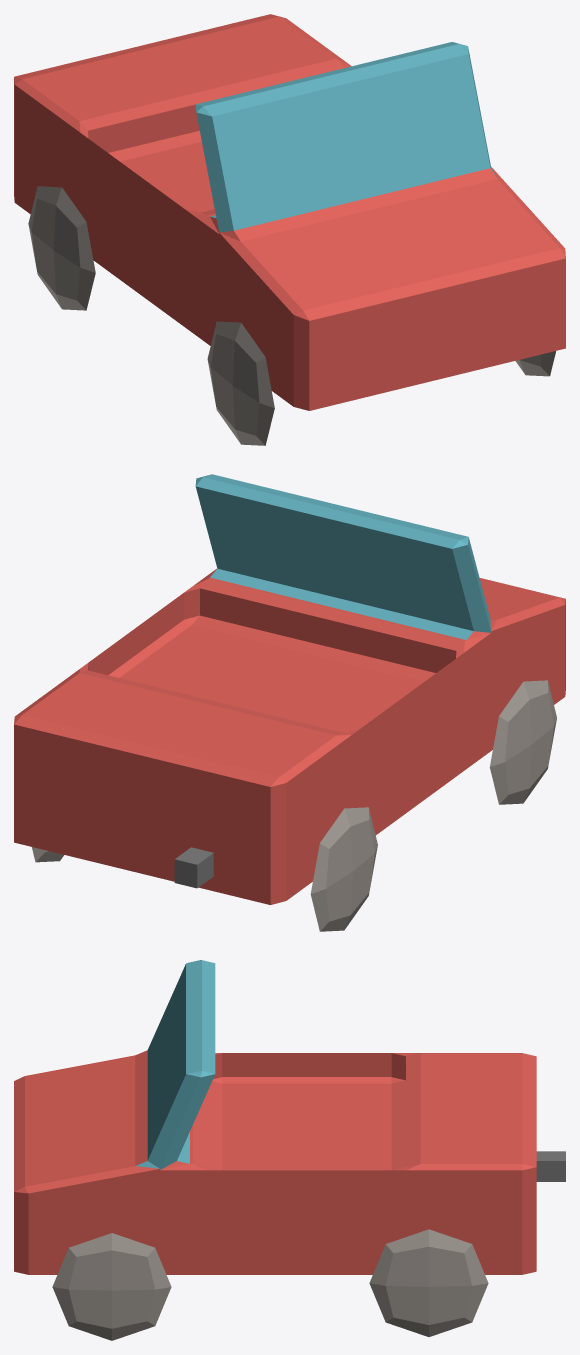
The model's file is Auto3.fbx.
3 renders of one model, top to bottom at view 1: azimuth 30°, elevation 25°; view 2: azimuth 150°, elevation 25°; view 3: azimuth 270°, elevation 25°, orthographic. The views are drawn at different scales.
Visible parts, largest first — view 1: Cube.008, Cube.016, Cube.017, Cube.014; view 2: Cube.008, Cube.016, Cube.017, Cube.018; view 3: Cube.008, Cube.015, Cube.014, Cube.018.
Part boxes in pixels (bbox=[...]): Cube.008: bbox=[14, 14, 565, 410]; Cube.016: bbox=[28, 186, 95, 310]; Cube.017: bbox=[207, 321, 274, 445]; Cube.014: bbox=[515, 351, 555, 376]; Cube.008: bbox=[14, 474, 565, 904]; Cube.016: bbox=[310, 807, 377, 931]; Cube.017: bbox=[489, 680, 556, 804]; Cube.018: bbox=[174, 847, 213, 888]; Cube.008: bbox=[14, 960, 536, 1274]; Cube.015: bbox=[369, 1229, 488, 1336]; Cube.014: bbox=[52, 1233, 171, 1340]; Cube.018: bbox=[536, 1151, 565, 1181].
Bounding box in the file's own units: 208 × 196 × 373.
